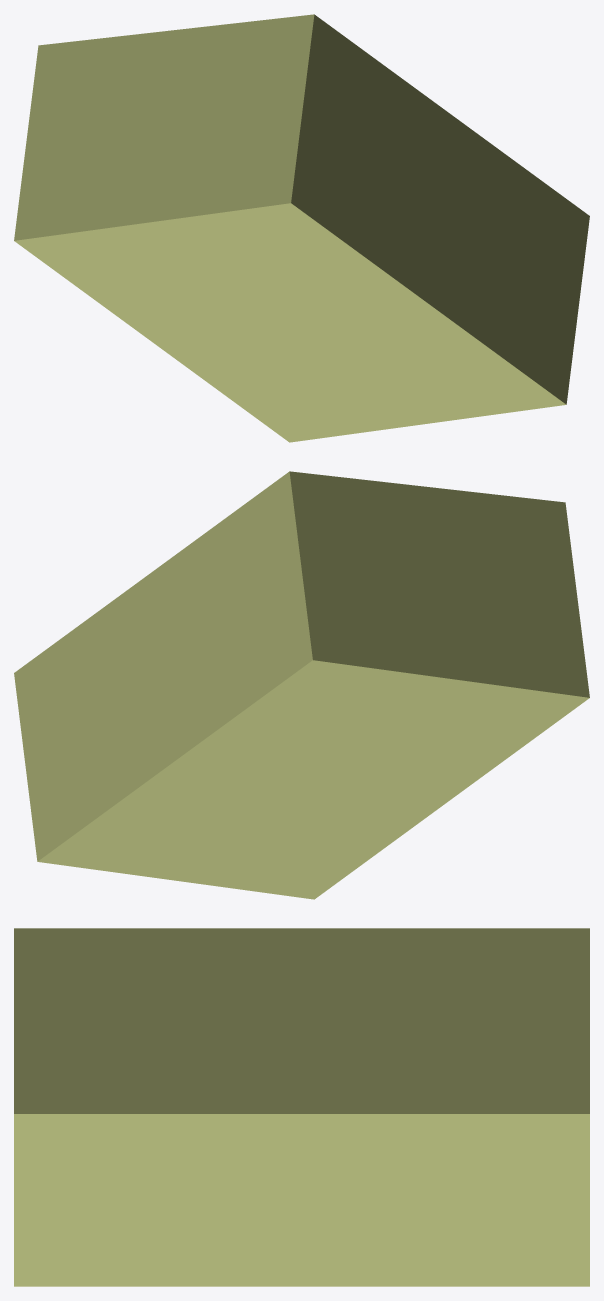
3 views of the same model, one above another, from view 1: azimuth 30°, elevation 25°; view 2: azimuth 150°, elevation 25°; view 3: azimuth 270°, elevation 25° (orthographic). The views are drawn at different scales.
Visible parts, largest first — view 1: 0_0_1_2_3_0_3_2_0_2_3; view 2: 0_0_1_2_3_0_3_2_0_2_3; view 3: 0_0_1_2_3_0_3_2_0_2_3.
Part boxes in pixels (left/top/right/bottom): 0_0_1_2_3_0_3_2_0_2_3: left=14, top=14, right=589, bottom=442; 0_0_1_2_3_0_3_2_0_2_3: left=14, top=471, right=589, bottom=899; 0_0_1_2_3_0_3_2_0_2_3: left=14, top=928, right=589, bottom=1286.
Bounding box in the file's own units: 5.67 × 3.95 × 9.
